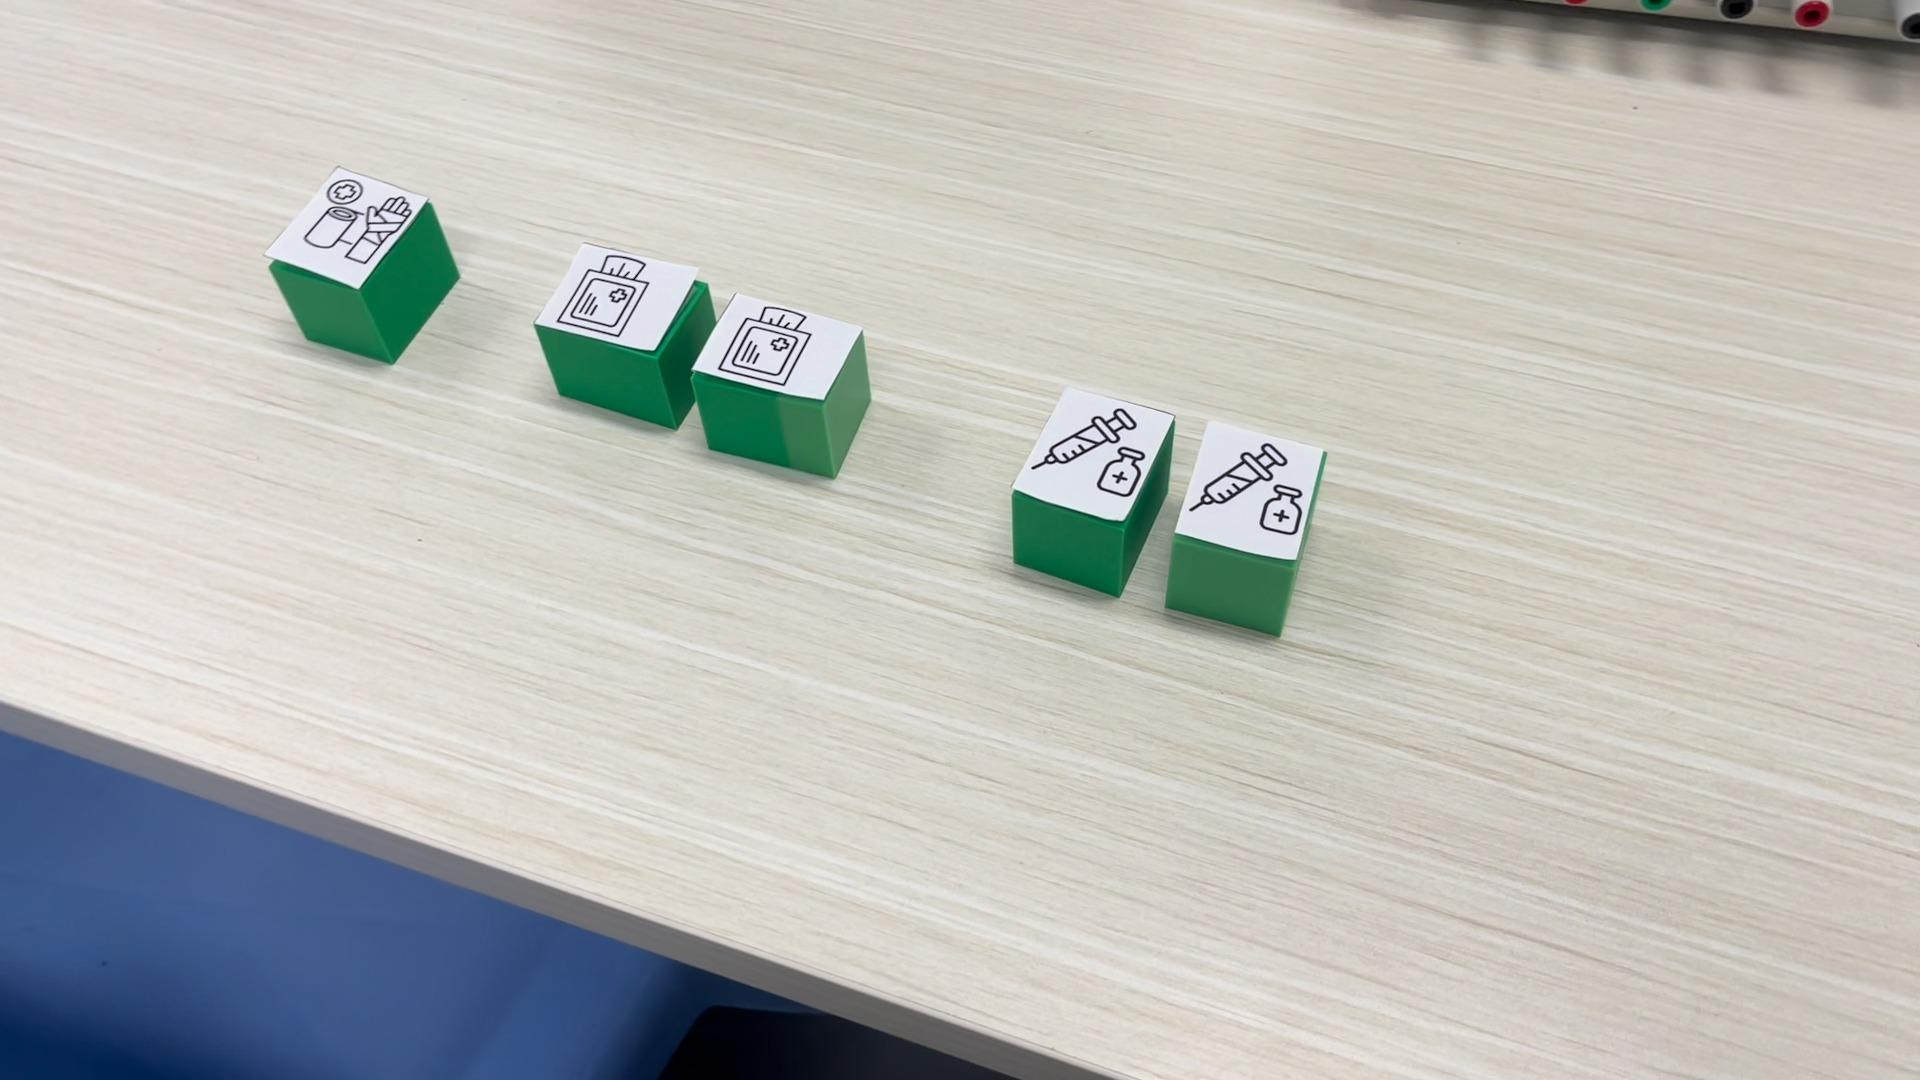Bandages: (264, 165, 460, 364)
Gauze: (533, 239, 716, 433), (692, 290, 874, 480)
antiseptic cream: (1163, 417, 1332, 638), (1007, 382, 1175, 600)
